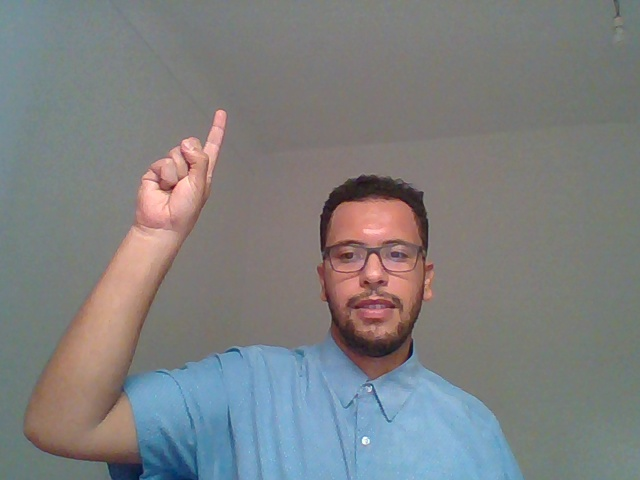handup: (89, 84, 233, 367)
